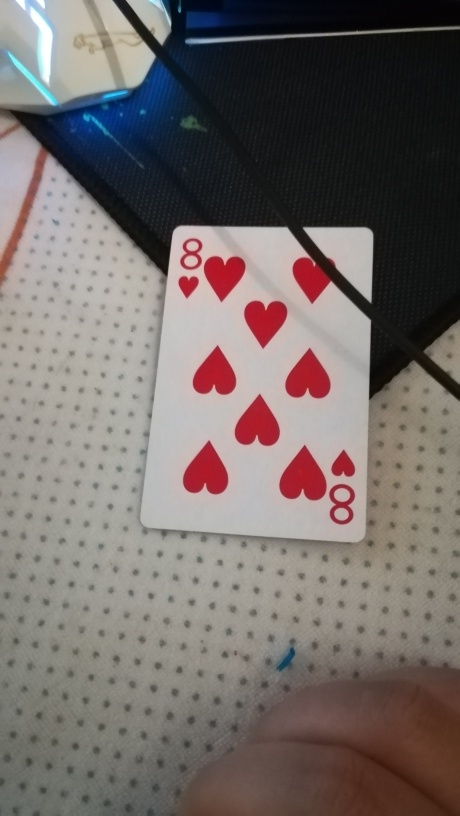hx 8: (137, 221, 375, 552)
